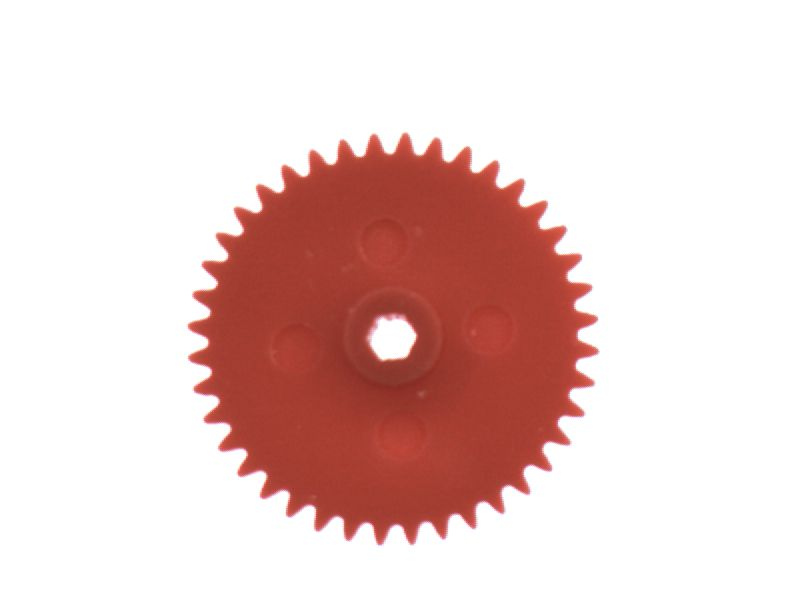good_product: (176, 120, 616, 552)
